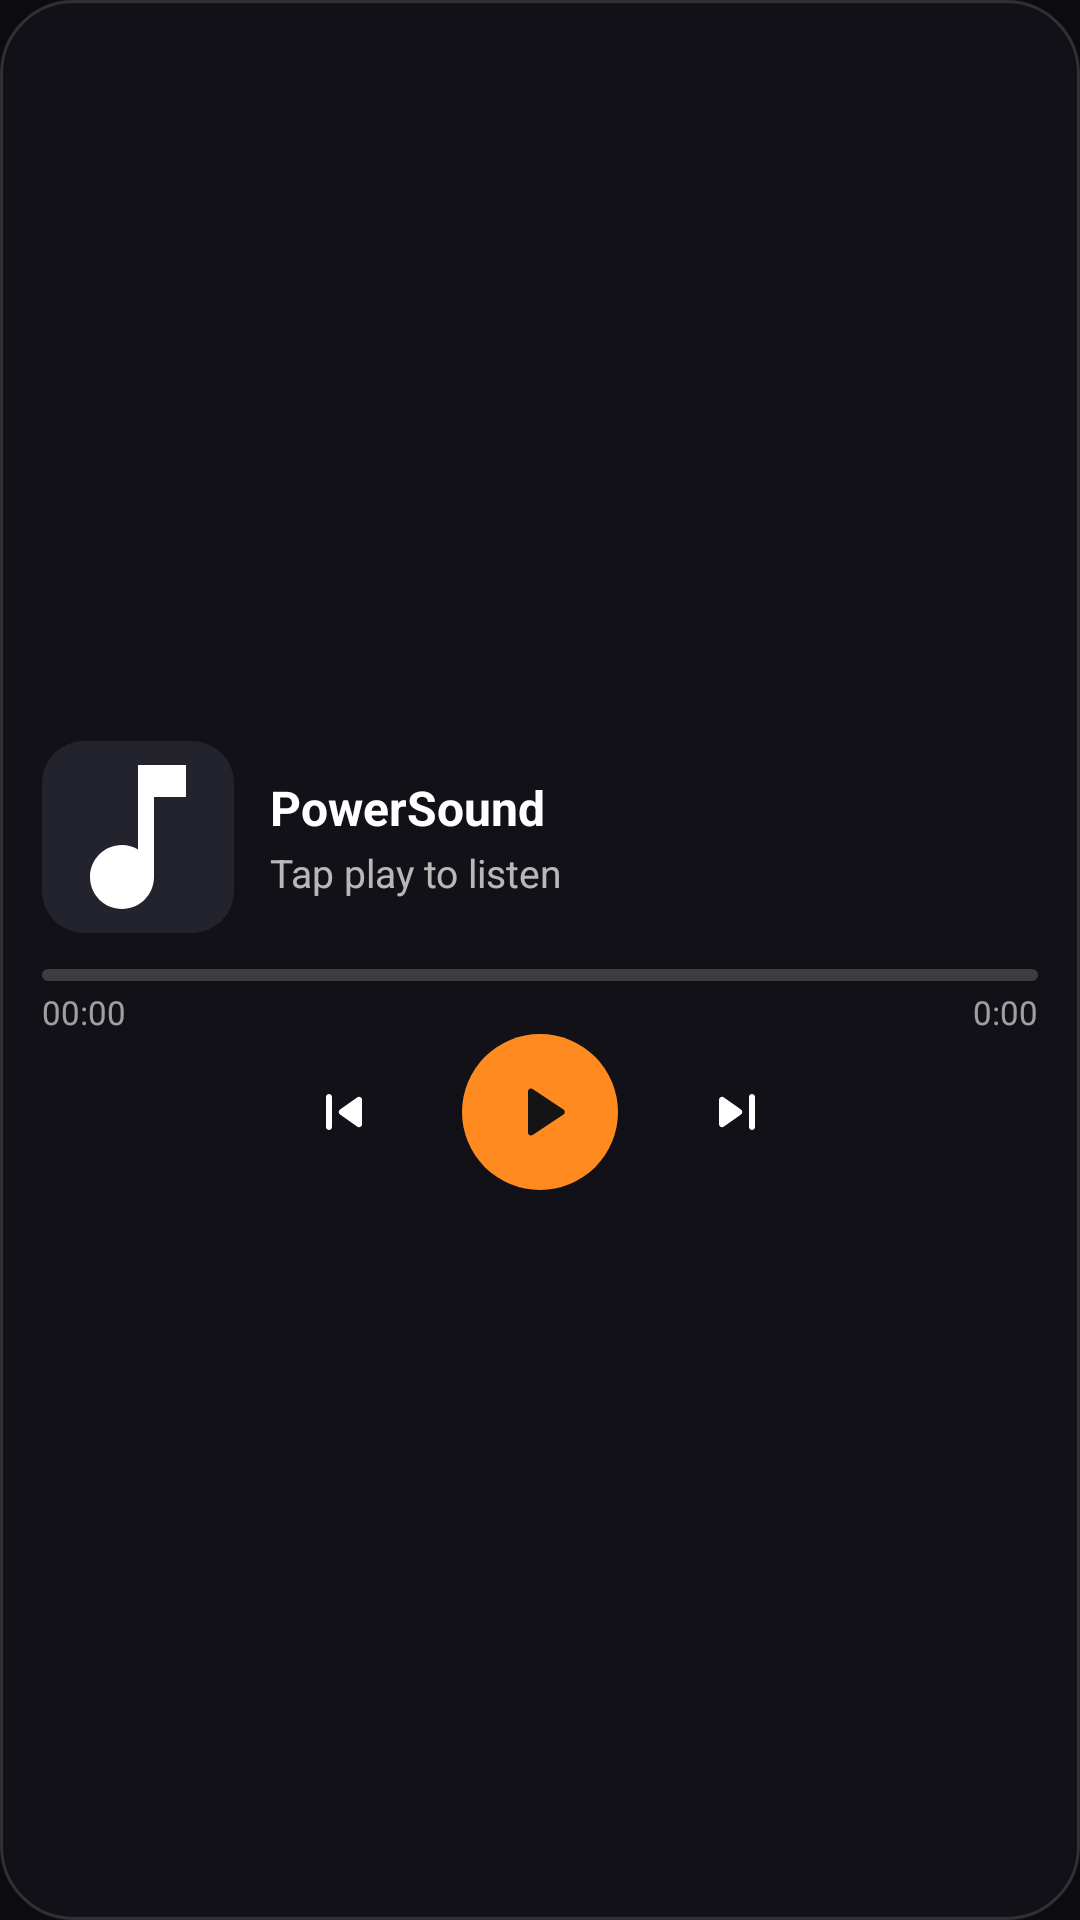

Icon click points for this 1080 × 1920 phone screenshot, format [x,y]:
Cover: [138,837]
Next: [737,1112]
Play or pause: [540,1112]
Previous: [344,1112]
